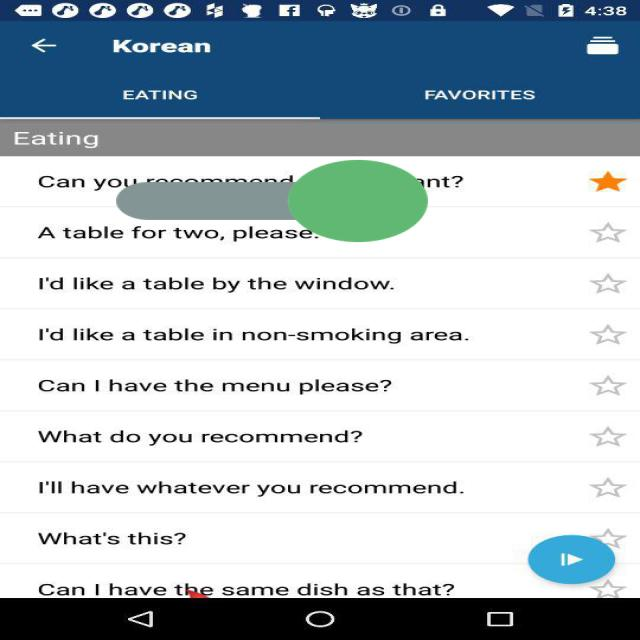social proof: (116, 109, 428, 293)
